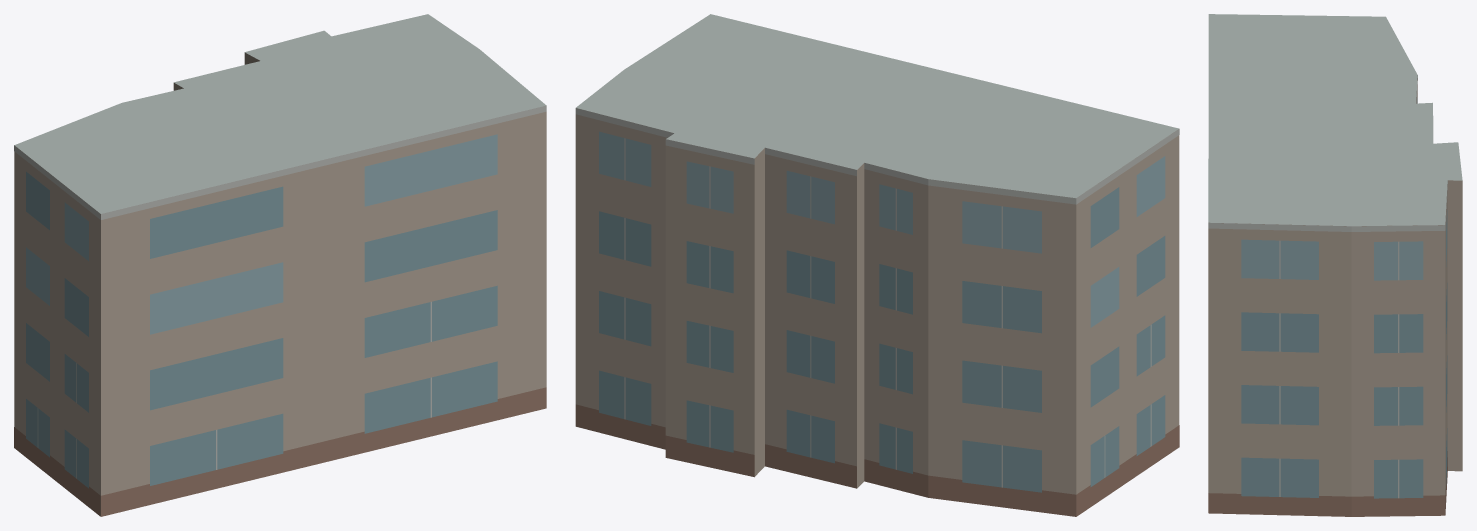
Rendered from survey-upis-32798743.glb.
The picture shows the model from 3 angles, left to right: view 1: azimuth 30°, elevation 25°; view 2: azimuth 150°, elevation 25°; view 3: azimuth 270°, elevation 25°; orthographic projection. The views are drawn at different scales.
Parts seen in each view (by area): view 1: survey-upis-32798743.tmp; view 2: survey-upis-32798743.tmp; view 3: survey-upis-32798743.tmp.
Boxes of the visible parts, x1,y1,x2,y2 form: survey-upis-32798743.tmp: (14, 14, 546, 516); survey-upis-32798743.tmp: (575, 14, 1179, 516); survey-upis-32798743.tmp: (1208, 14, 1462, 516).
Bounding box in the file's own units: 19.12 × 12.2 × 9.68.
